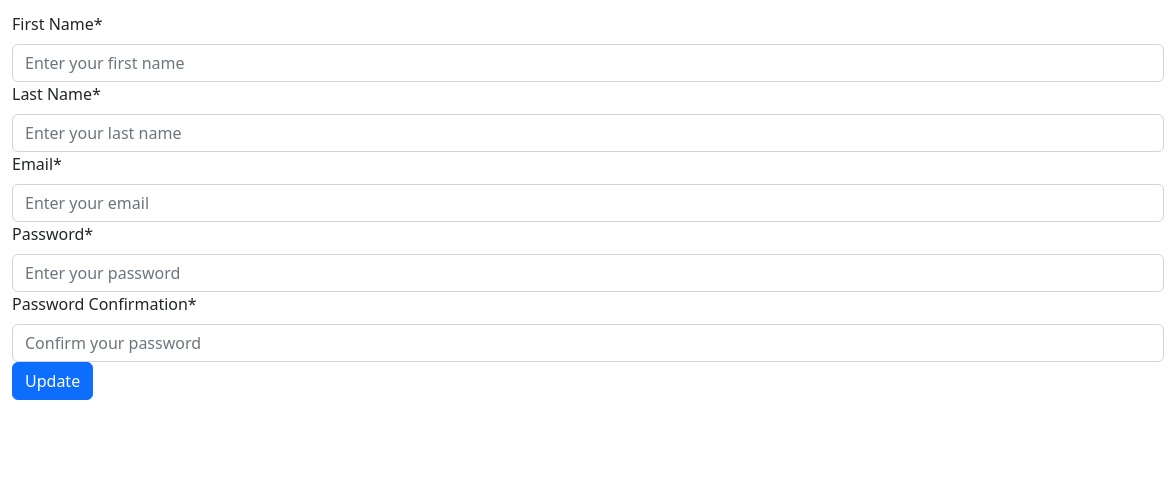
Test case: The User Profile Component › displays an error message if last name is blank
Type "Nick" into the field labelled "First Name*" at (588, 63), box [12,44,1164,82]
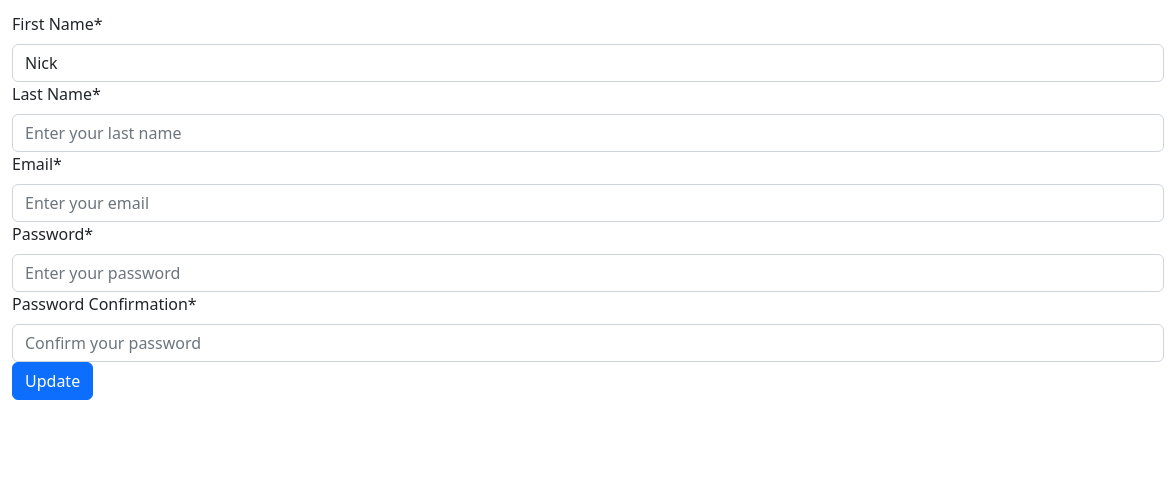
Type "Nick@gmail.com" into the field labelled "Email*" at (588, 203), box [12,184,1164,222]
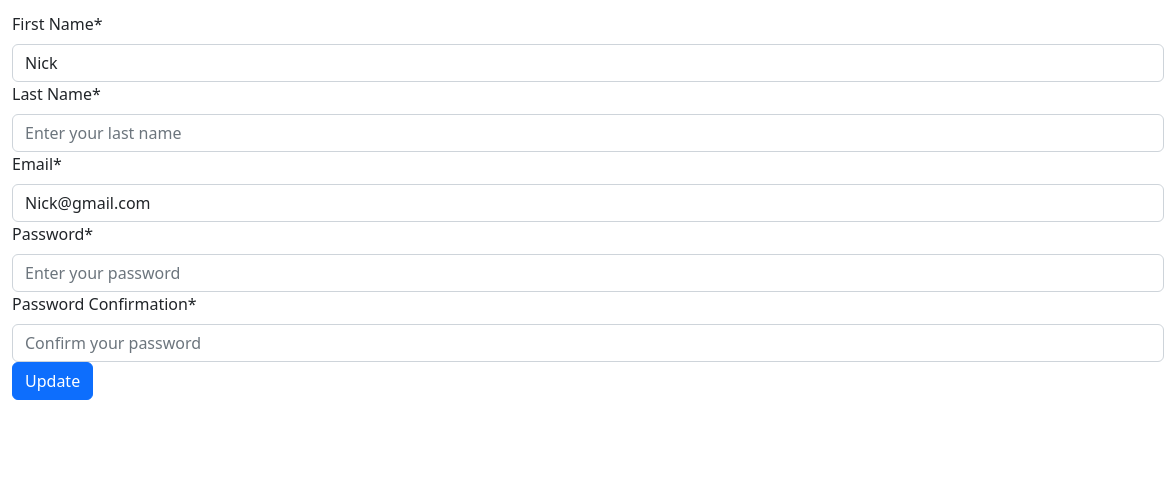
Type "NicksPassword1" into the password field labelled "Password*" at (588, 273), box [12,254,1164,292]
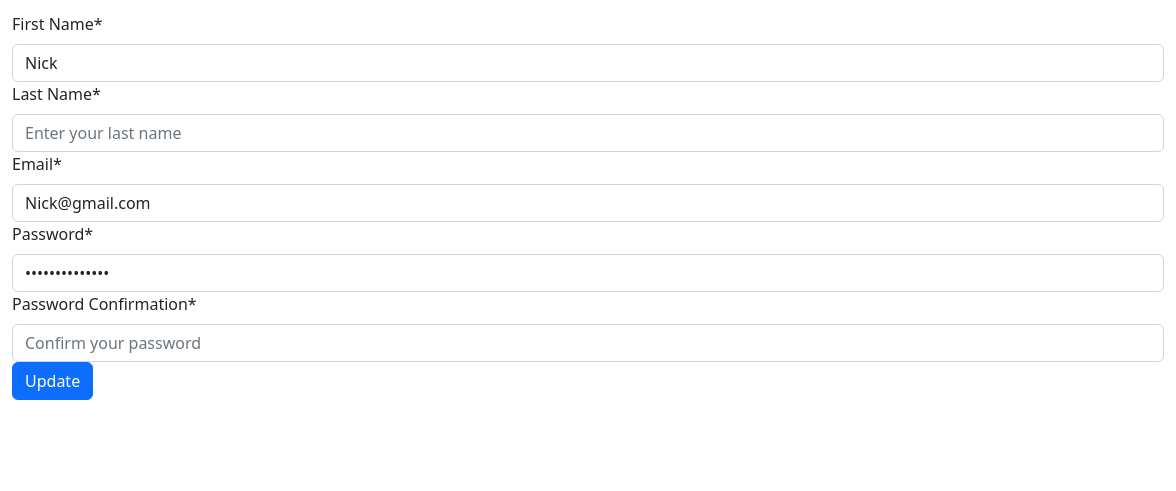
Type "NicksPassword1" into the password field labelled "Password Confirmation*" at (588, 343), box [12,324,1164,362]
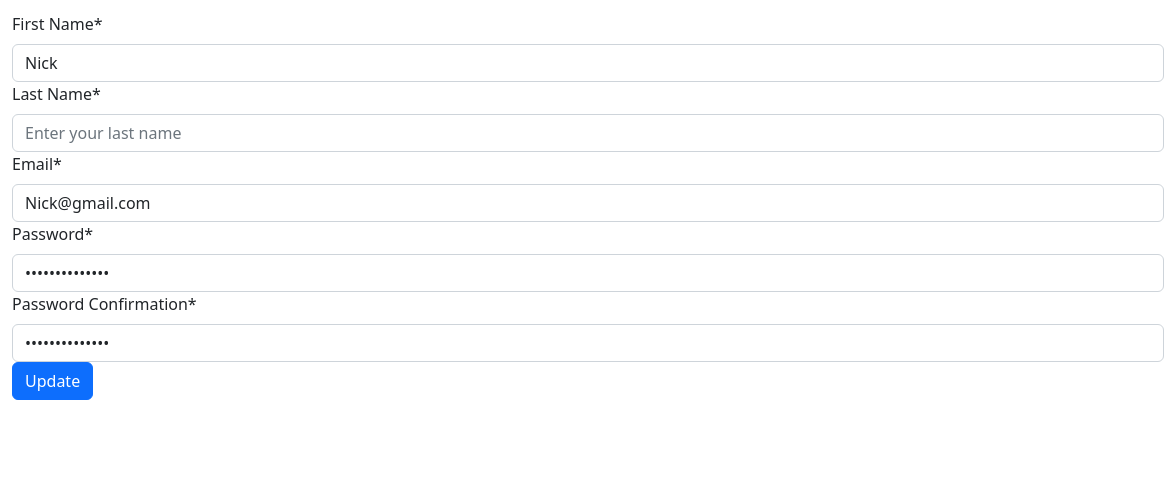
Click the button "Update" at (53, 381), box [12,362,93,400]
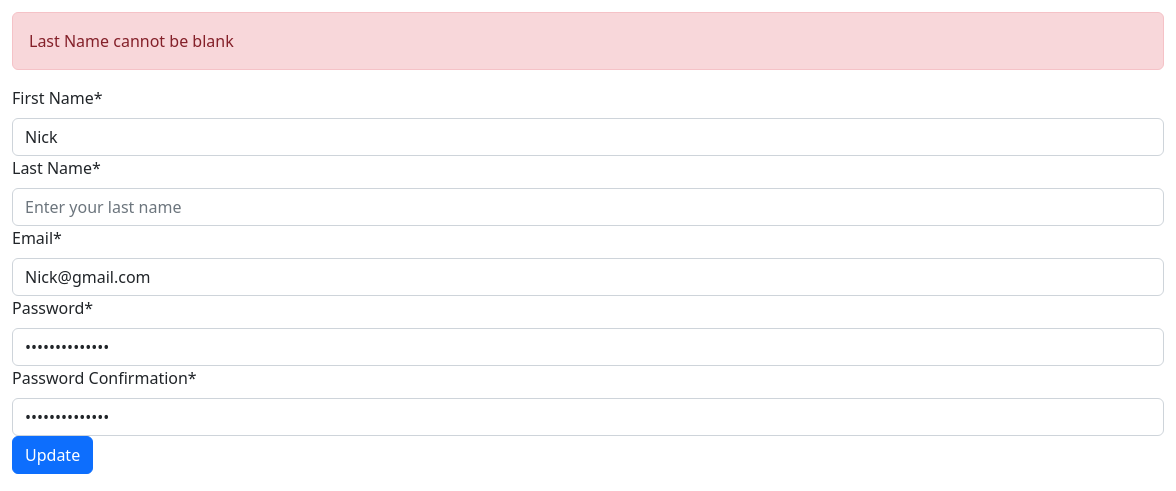
Check: the text "Last Name cannot be blank" is shown, box [12,12,1164,70]
